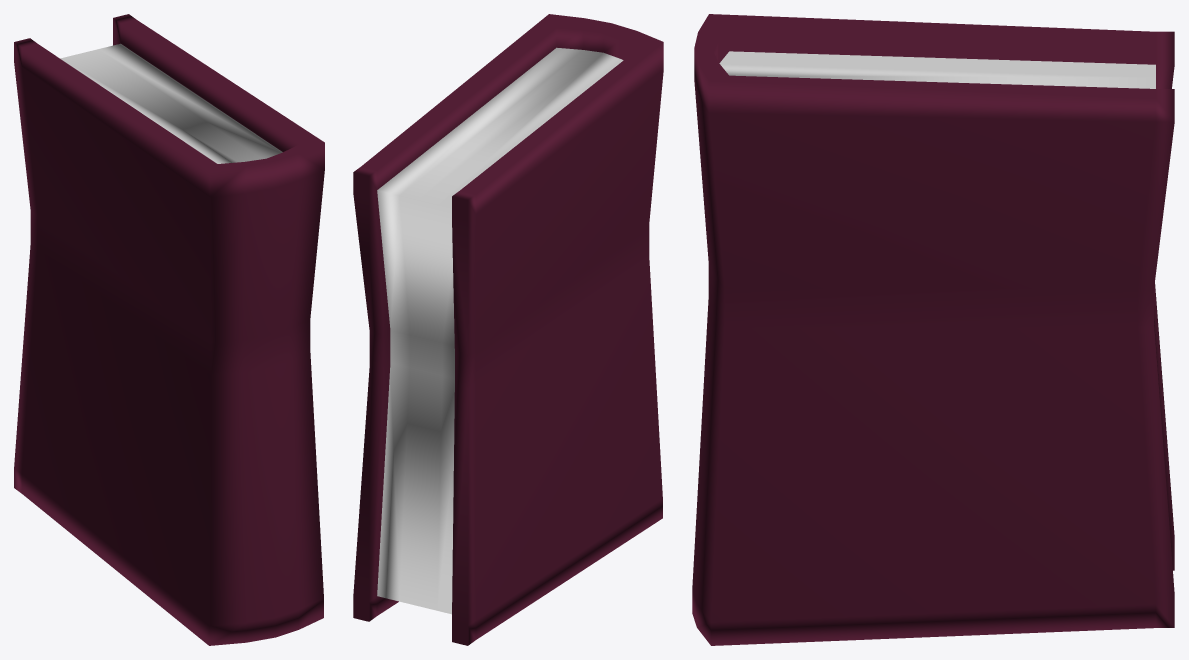
Rendered from PinkBook.fbx.
3 views of the same model, side by side, from view 1: azimuth 30°, elevation 25°; view 2: azimuth 150°, elevation 25°; view 3: azimuth 270°, elevation 25° (orthographic). The views are drawn at different scales.
Parts seen in each view (by area): view 1: PinkBook; view 2: PinkBook; view 3: PinkBook.
Part boxes in pixels (box(x1,y1,x2,y2)): PinkBook: box(14, 14, 324, 645); PinkBook: box(353, 14, 663, 645); PinkBook: box(692, 14, 1174, 645).
Bounding box in the file's own units: 187 × 741 × 573.
